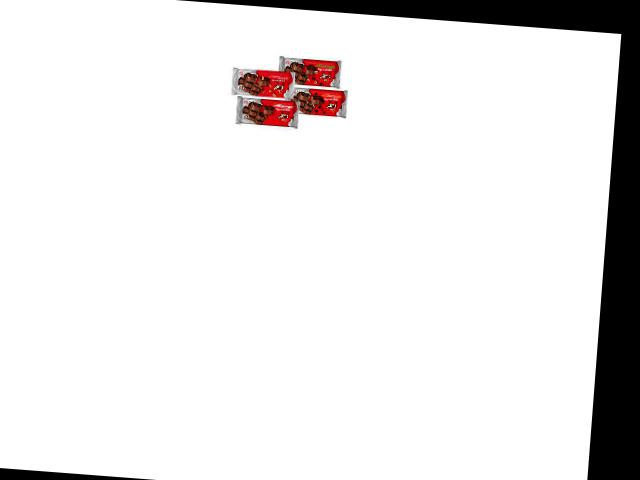chocolate: (273, 52, 347, 94)
